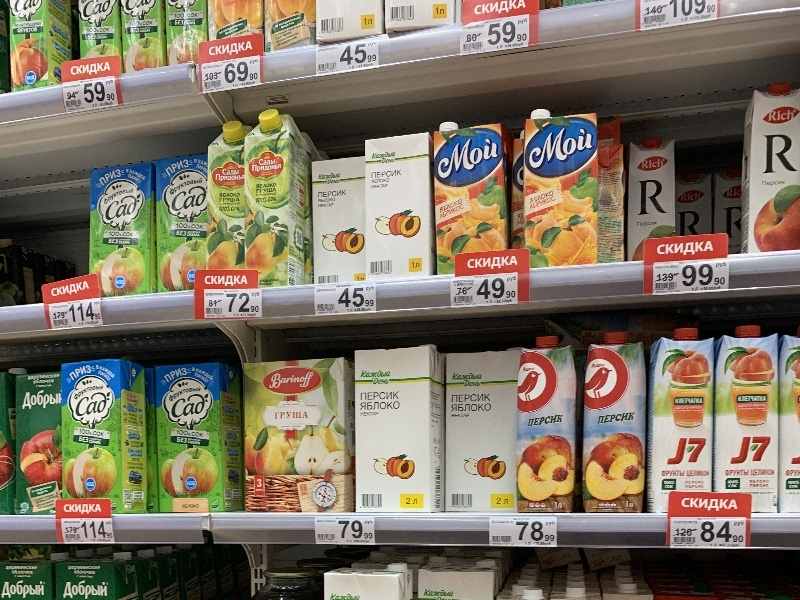juice: (147, 352, 254, 516), (59, 355, 160, 520), (642, 321, 733, 499), (712, 323, 792, 516), (516, 106, 607, 266), (575, 332, 653, 518), (242, 113, 314, 290), (515, 337, 584, 519), (735, 87, 800, 268), (82, 162, 169, 297), (431, 119, 511, 265), (197, 113, 257, 274)
